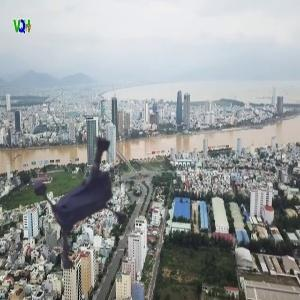drone: (7, 107, 158, 258)
